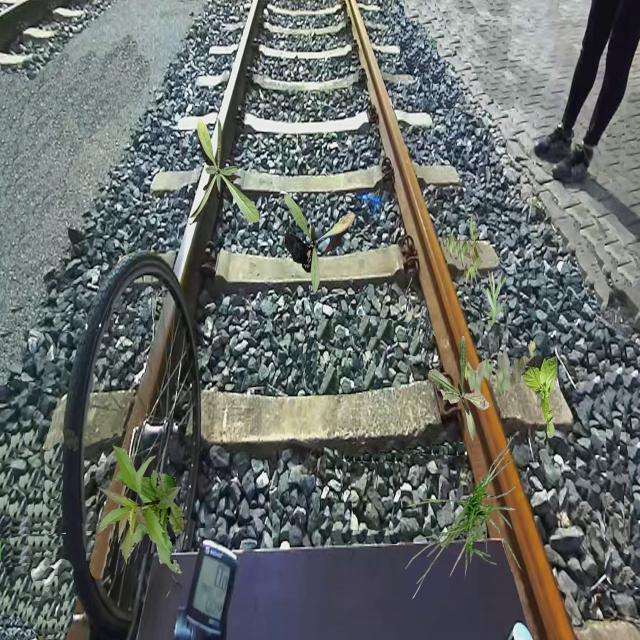Plant: (405, 437, 524, 600), (96, 445, 184, 575), (188, 118, 260, 226), (284, 194, 356, 294), (427, 336, 491, 448), (464, 340, 550, 408), (442, 214, 484, 286), (522, 355, 558, 438), (482, 270, 508, 326)
